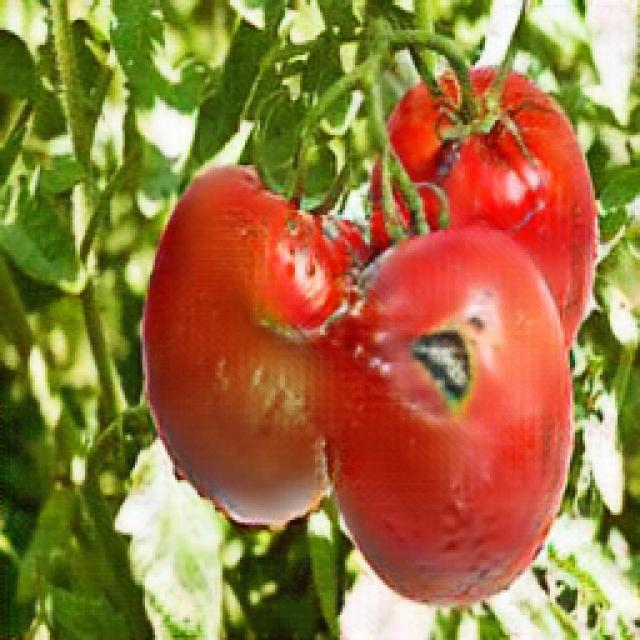overripe tomato: (330, 219, 577, 610), (136, 168, 358, 527)
